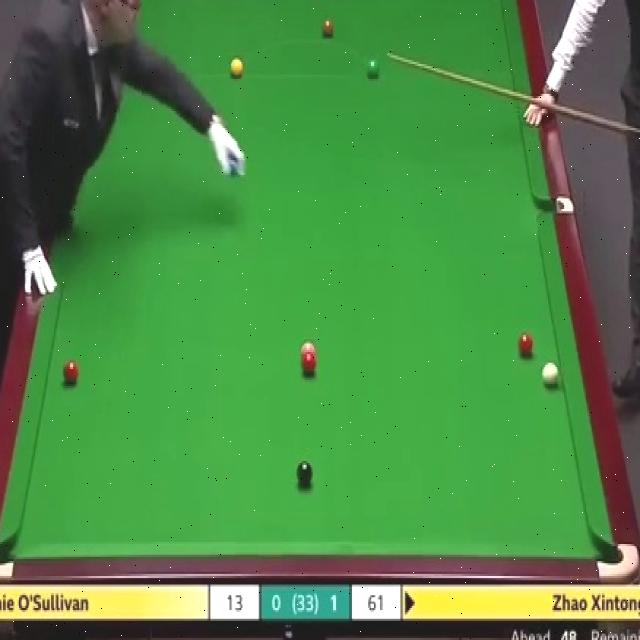black-ball: (295, 460, 315, 485)
brown-ball: (322, 18, 335, 41)
green-ball: (365, 56, 379, 79)
pink-ball: (300, 341, 316, 356)
red-ball: (62, 360, 78, 385), (518, 333, 534, 358), (301, 354, 316, 374)
white-ball: (542, 362, 560, 390)
yellow-ball: (229, 56, 243, 78)
